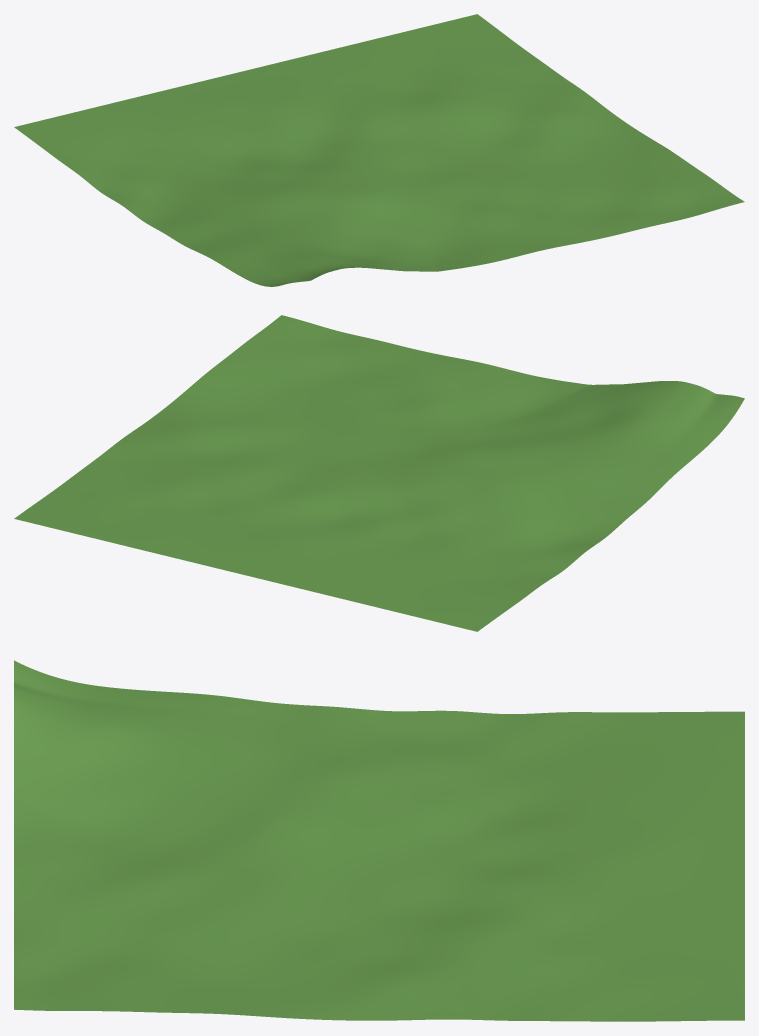
The model's file is SM_Terrain_06_00.fbx.
3 renders of one model, top to bottom at view 1: azimuth 30°, elevation 25°; view 2: azimuth 150°, elevation 25°; view 3: azimuth 270°, elevation 25°, orthographic. The views are drawn at different scales.
Parts seen in each view (by area): view 1: SM_Terrain_06_00; view 2: SM_Terrain_06_00; view 3: SM_Terrain_06_00.
Part boxes in pixels (left/top/right/bottom): SM_Terrain_06_00: left=14, top=14, right=744, bottom=286; SM_Terrain_06_00: left=14, top=315, right=744, bottom=631; SM_Terrain_06_00: left=14, top=660, right=744, bottom=1021.
Bounding box in the file's own units: 384 × 33.41 × 384.
